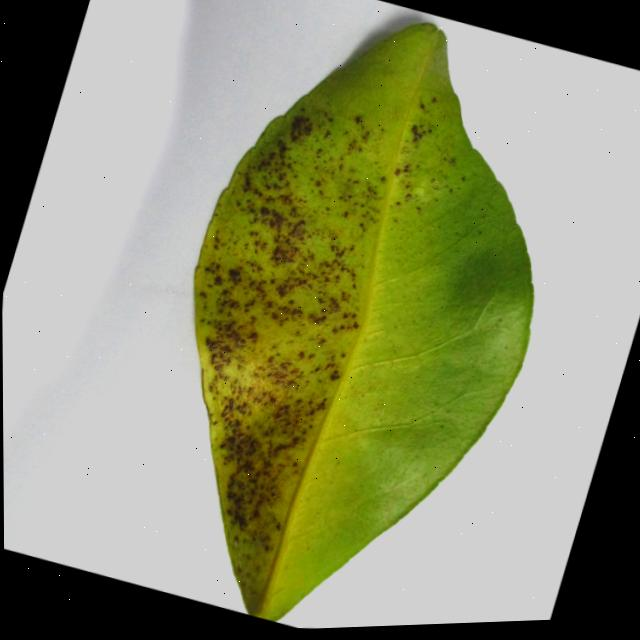melanose: (195, 23, 533, 619)
